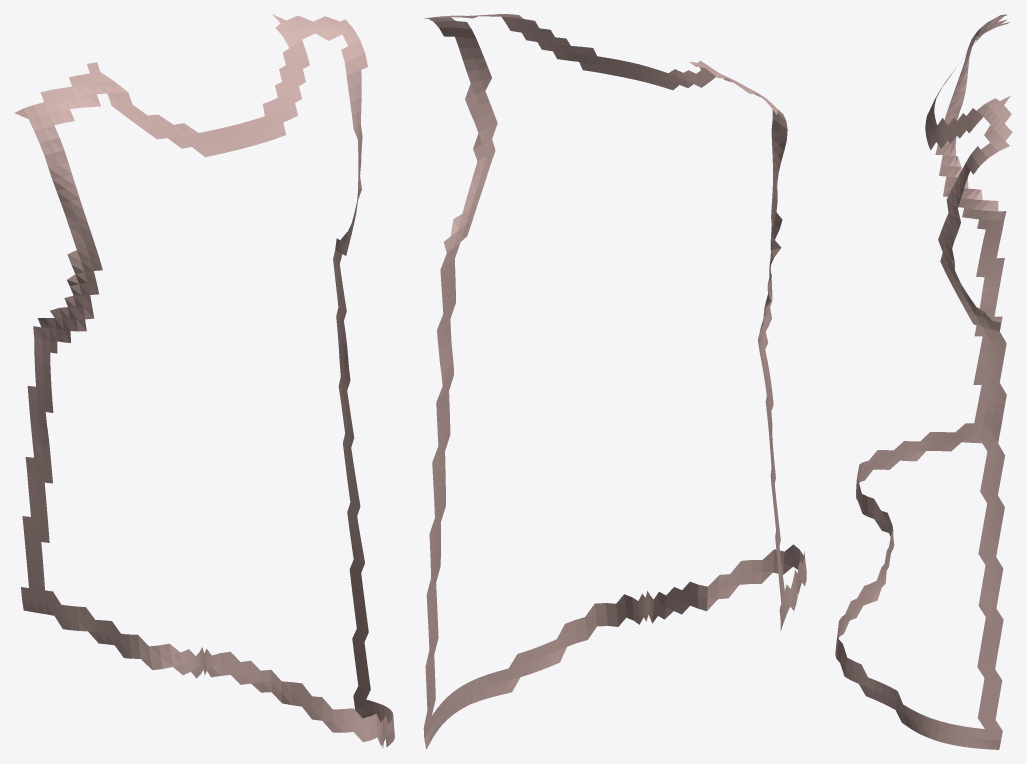
File: selected_mesh0.obj
3 renders of one model, left to right at view 1: azimuth 30°, elevation 25°; view 2: azimuth 150°, elevation 25°; view 3: azimuth 270°, elevation 25°, orthographic. The views are drawn at different scales.
Bounding box in the file's own units: 0.7256 × 1.46 × 0.3766.
